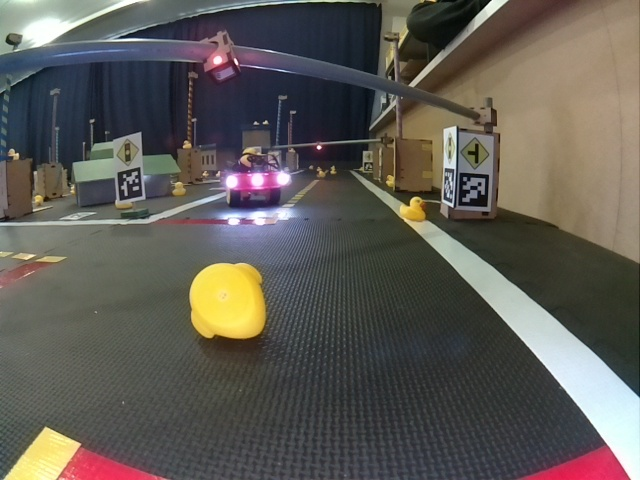Duckie: (189, 262, 266, 341), (401, 197, 424, 222), (173, 182, 185, 196), (385, 177, 395, 188), (182, 140, 192, 149), (317, 171, 326, 178), (330, 167, 337, 175)
Duckiebot: (225, 166, 285, 205)
Intersection sign: (460, 133, 493, 171)
QR code: (457, 177, 490, 209), (116, 169, 143, 200), (441, 172, 455, 201)
Signal sign: (115, 137, 142, 166), (445, 130, 456, 164)
Traffic light: (204, 33, 239, 82), (316, 142, 324, 149)
